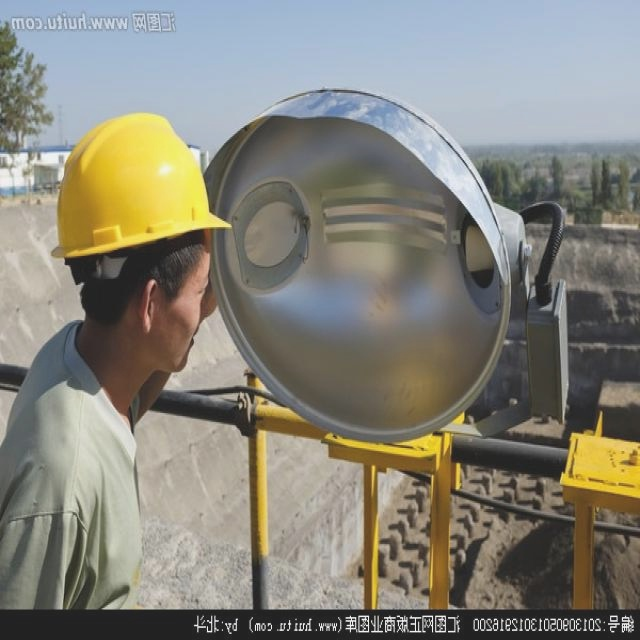Con_Casco: (52, 115, 229, 372)
